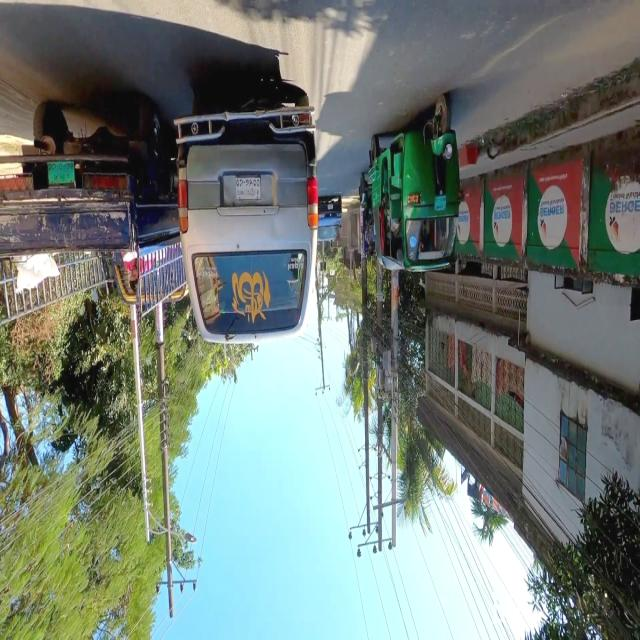blue: (318, 195, 344, 243)
silver: (174, 86, 318, 348)
